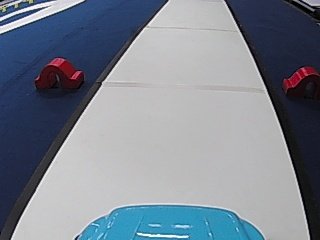bridge: (33, 54, 85, 92), (281, 64, 318, 99)
